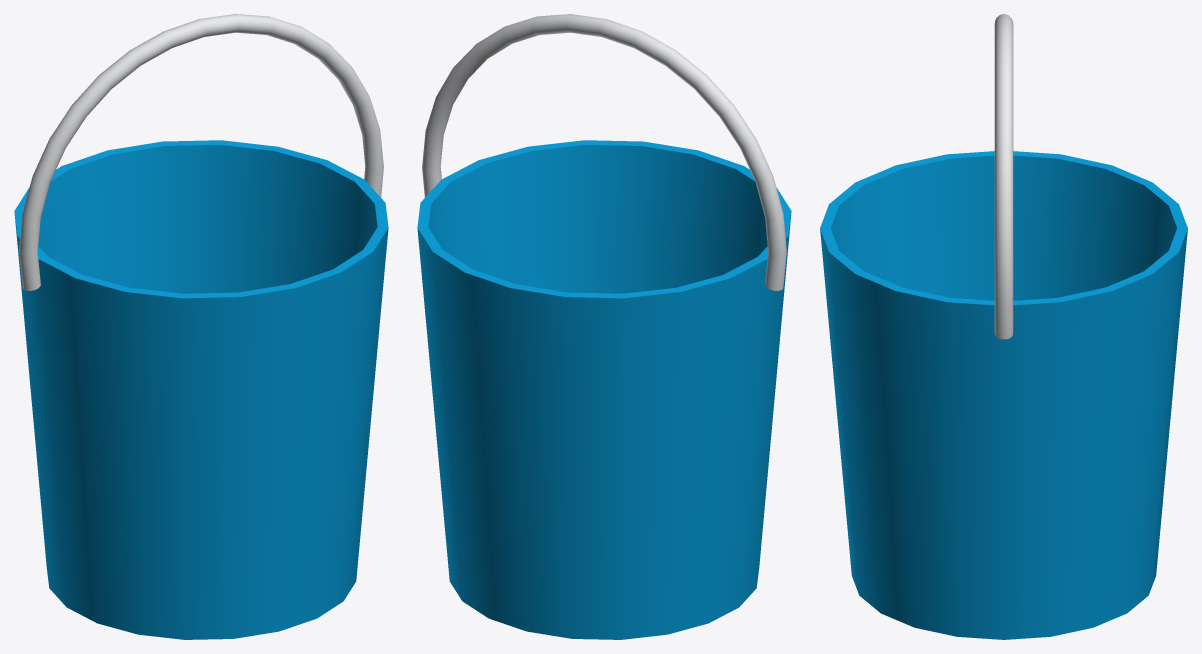
Rendered from maya2sketchfab.fbx.
3 views of the same model, side by side, from view 1: azimuth 30°, elevation 25°; view 2: azimuth 150°, elevation 25°; view 3: azimuth 270°, elevation 25° (orthographic). The views are drawn at different scales.
Parts seen in each view (by area): view 1: bucket, handle; view 2: bucket, handle; view 3: bucket, handle.
Boxes of the visible parts, bbox=[...] form: bucket: bbox=[14, 140, 388, 639]; handle: bbox=[19, 14, 383, 290]; bucket: bbox=[417, 140, 791, 639]; handle: bbox=[422, 14, 786, 290]; bucket: bbox=[820, 151, 1187, 639]; handle: bbox=[994, 14, 1013, 339].
Bounding box in the file's own units: 26.7 × 39.06 × 24.
